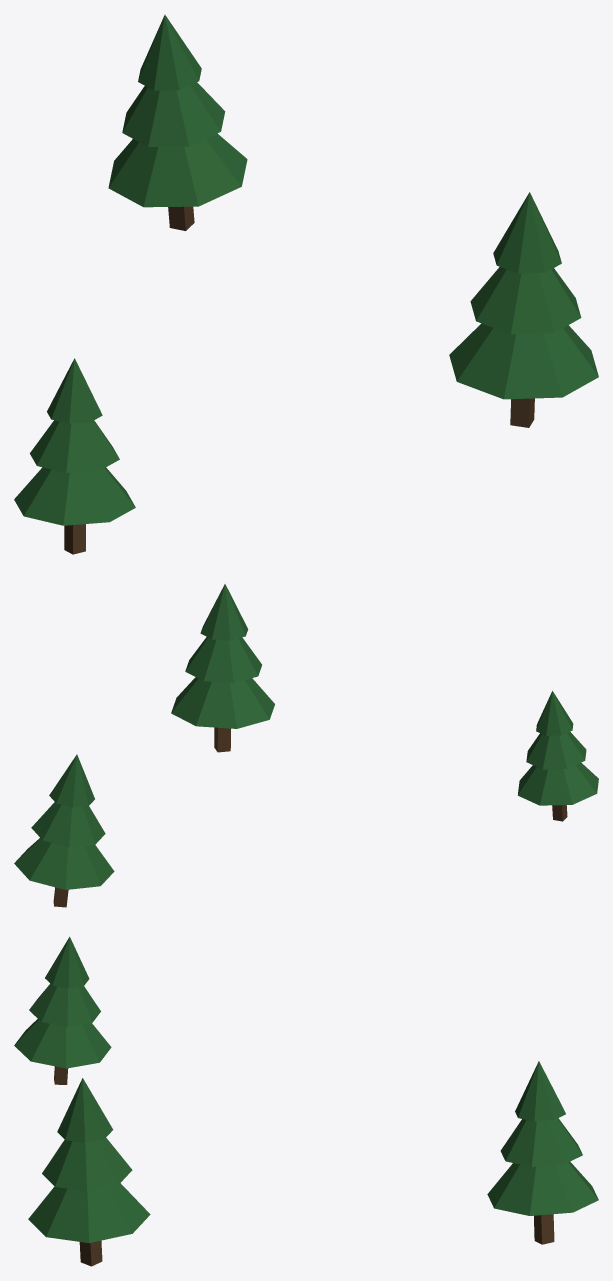
The model's file is procgen-rocksr-pine-x0z0.obj.
The picture shows the model from 3 angles, top to bottom: view 1: azimuth 30°, elevation 25°; view 2: azimuth 150°, elevation 25°; view 3: azimuth 270°, elevation 25°; orthographic projection. The views are drawn at different scales.
Bounding box in the file's own units: 14.25 × 5.46 × 15.58.
